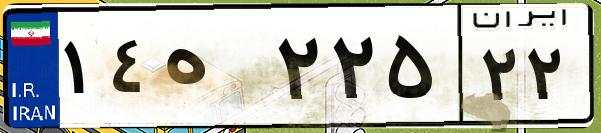1: (57, 26, 110, 100)
2: (270, 28, 330, 110), (330, 28, 385, 110), (475, 38, 525, 113), (525, 38, 570, 115)
4: (110, 28, 158, 98)
5: (385, 28, 445, 110)
ه: (158, 20, 270, 120)
